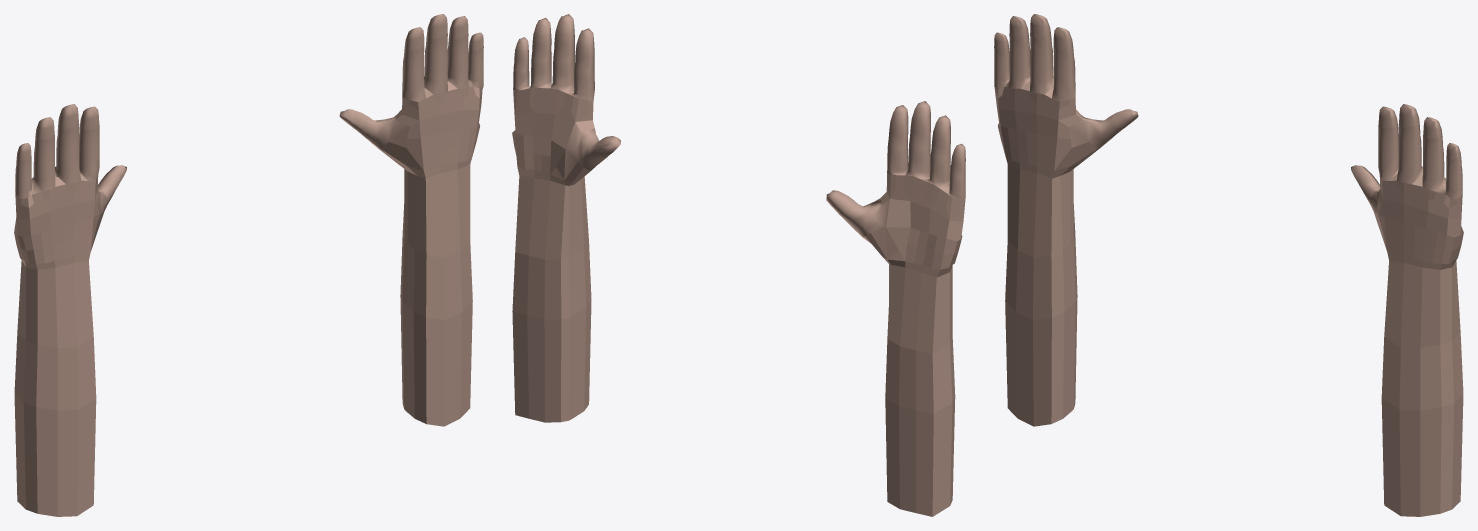
The picture shows the model from 3 angles, left to right: view 1: azimuth 30°, elevation 25°; view 2: azimuth 150°, elevation 25°; view 3: azimuth 330°, elevation 25°; orthographic projection. The views are drawn at different scales.
Parts seen in each view (by area): view 1: Cube.001, Cube.002; view 2: Cube.002, Cube.001; view 3: Cube.002, Cube.001.
Part boxes in pixels (left/top/right/bottom): Cube.001: left=14, top=104, right=126, bottom=516; Cube.002: left=339, top=14, right=483, bottom=426; Cube.002: left=512, top=14, right=620, bottom=422; Cube.001: left=826, top=101, right=965, bottom=516; Cube.002: left=1351, top=104, right=1463, bottom=516; Cube.001: left=994, top=14, right=1138, bottom=426.
Size of the model in its own units: 785 by 656 by 93.79.
